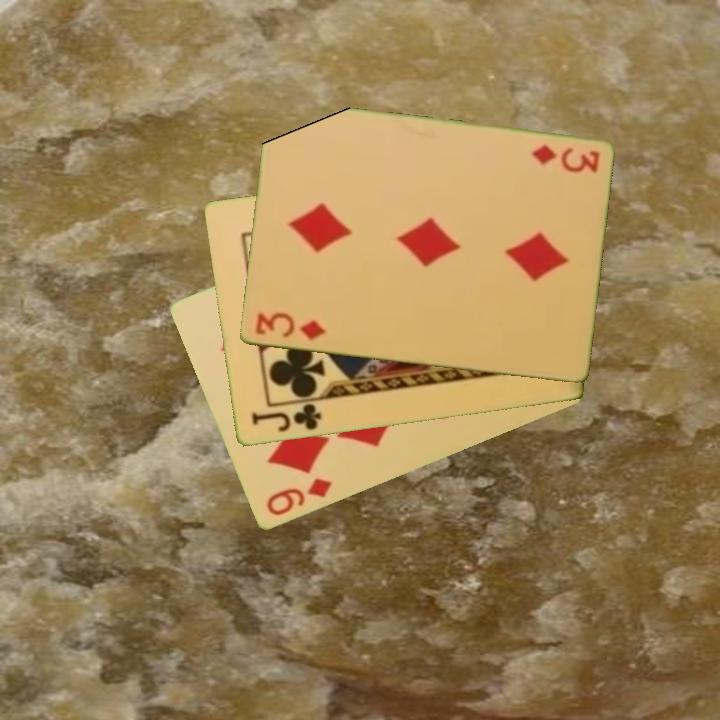3d: (251, 310, 328, 343), (528, 141, 602, 175)
9d: (262, 475, 335, 520)
Jc: (247, 401, 324, 435)
